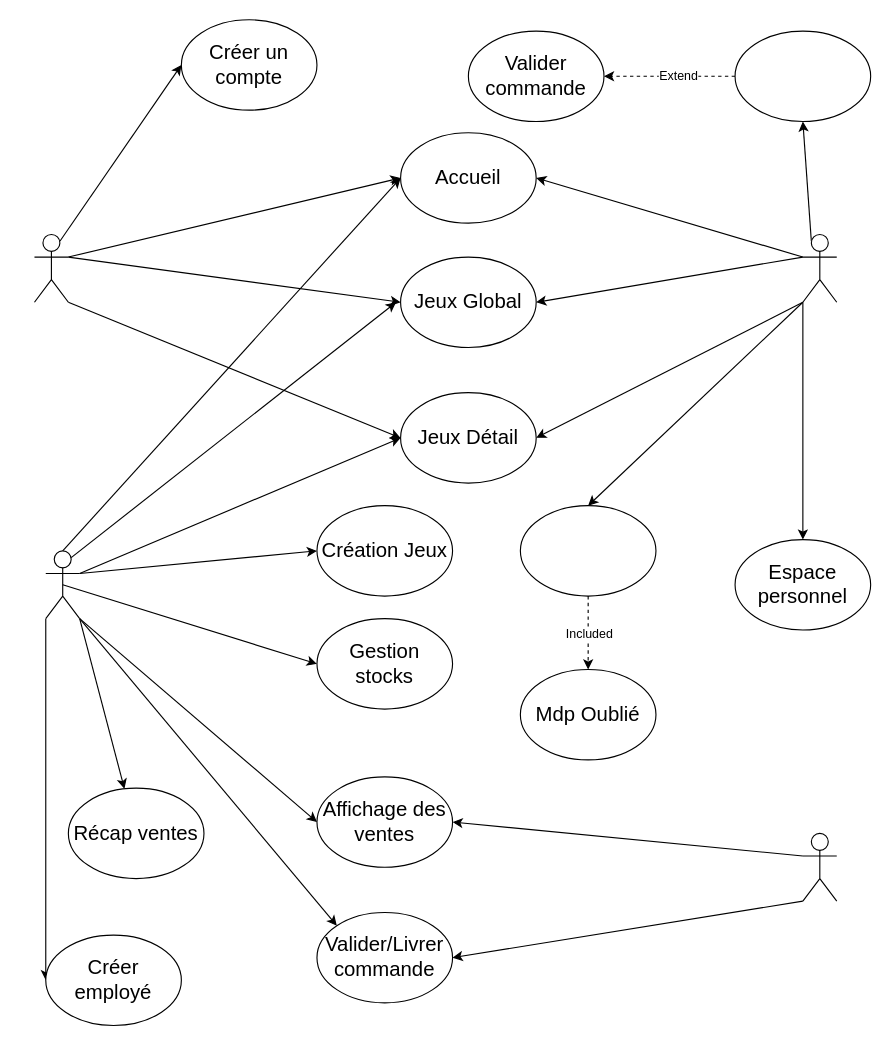
Image size: 890x1045. Some labels were removed from this diagram. The box of each missing label's shape, as (x1, y1, x2, y2) in pixels:
Administrateur: (45, 550, 80, 619)
Connection: (519, 505, 656, 596)
Employé: (802, 832, 837, 901)
Panier: (734, 30, 871, 121)
Utilisateur: (802, 233, 837, 302)
Visiteur: (33, 233, 68, 302)
